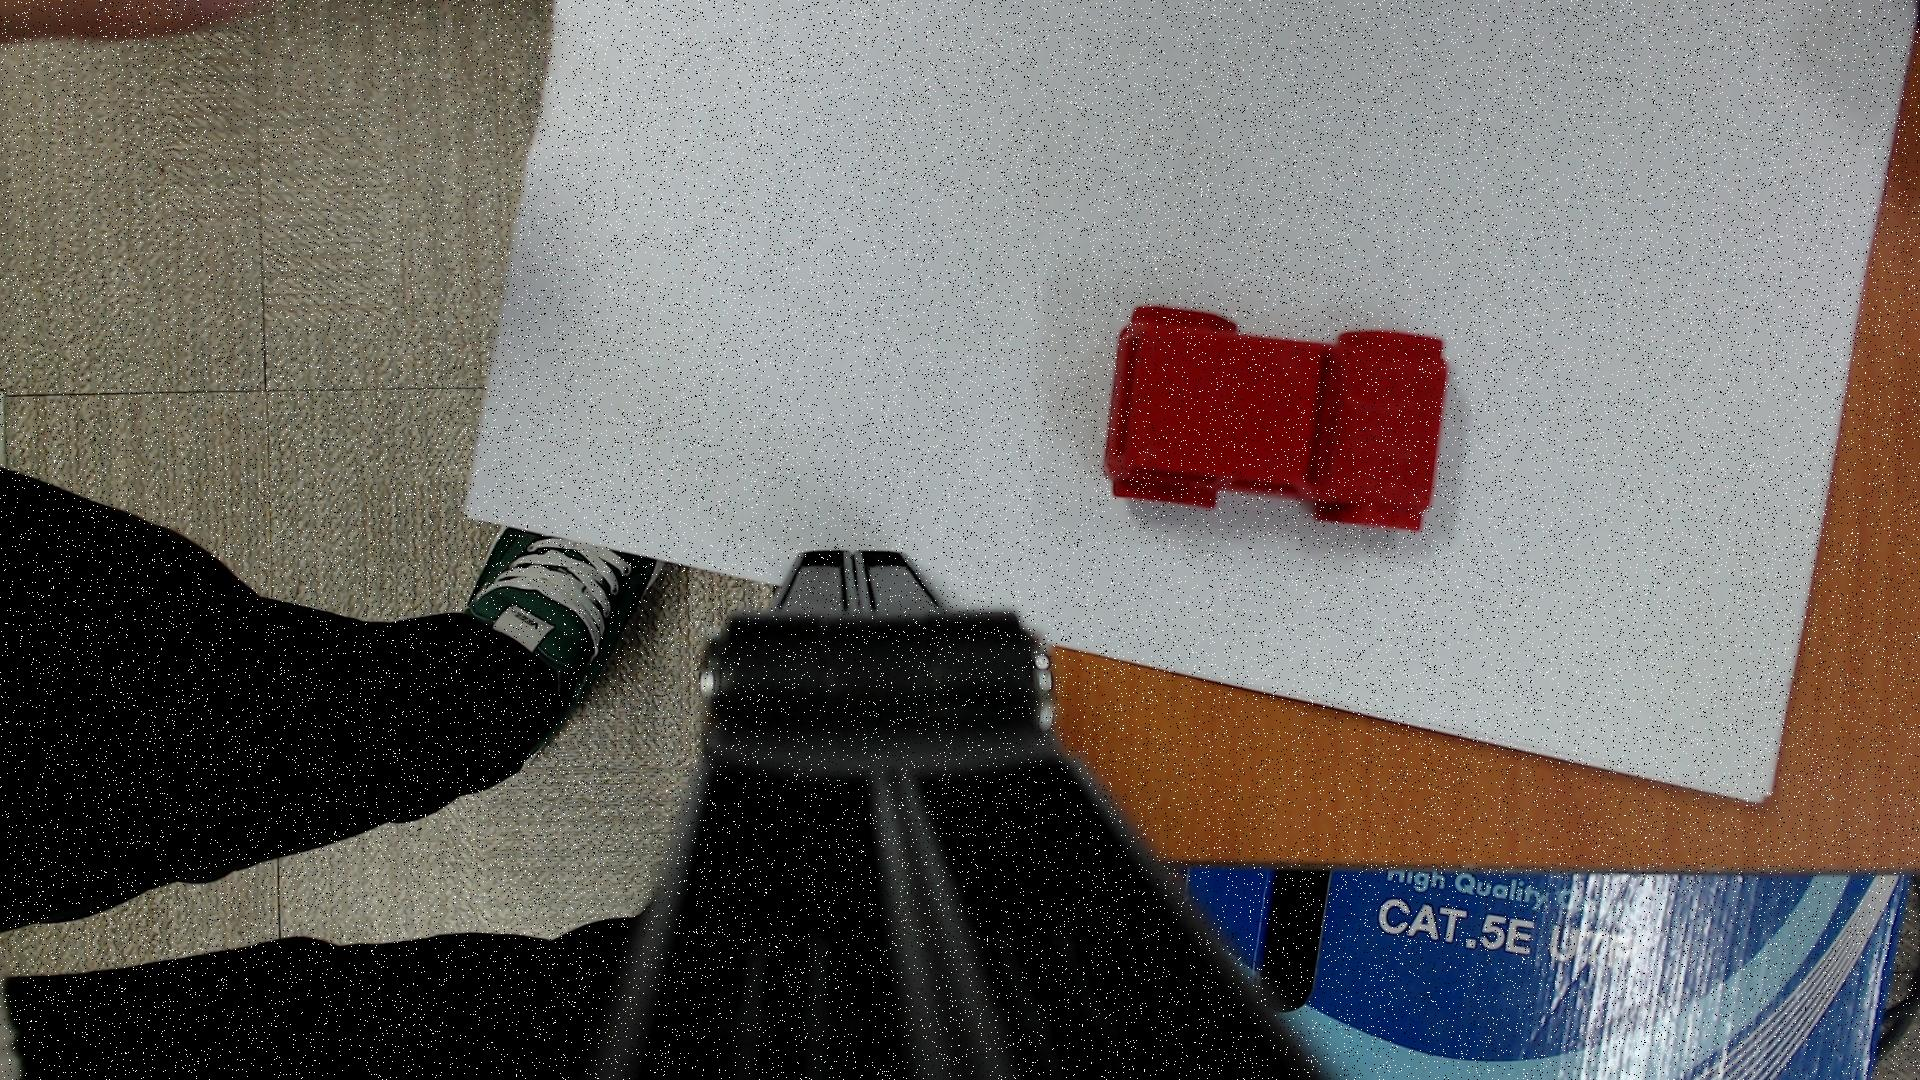Upper_ok: (1102, 307, 1448, 531)
